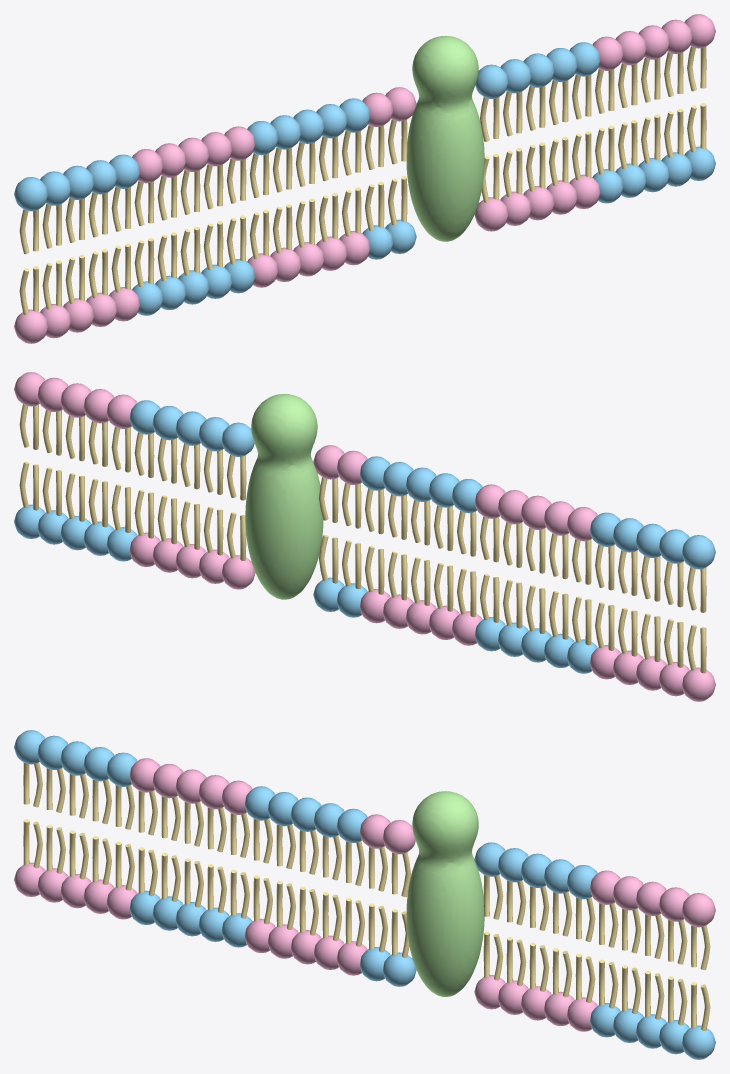
File: T08_Membrane_Wall.glb
3 views of the same model, one above another, from view 1: azimuth 30°, elevation 25°; view 2: azimuth 150°, elevation 25°; view 3: azimuth 330°, elevation 25° (orthographic).
Visible parts, largest first — view 1: T08_Membrane_Wall_Mesh; view 2: T08_Membrane_Wall_Mesh; view 3: T08_Membrane_Wall_Mesh.
Boxes of the visible parts, x1,y1,x2,y2 form: T08_Membrane_Wall_Mesh: [14, 14, 715, 343]; T08_Membrane_Wall_Mesh: [14, 372, 715, 701]; T08_Membrane_Wall_Mesh: [14, 730, 715, 1059].
Size of the model in its own units: 6.06 by 1.68 by 0.587.
